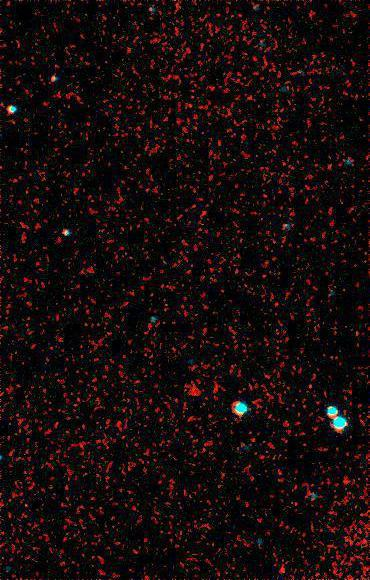star: (268, 556, 298, 580)
